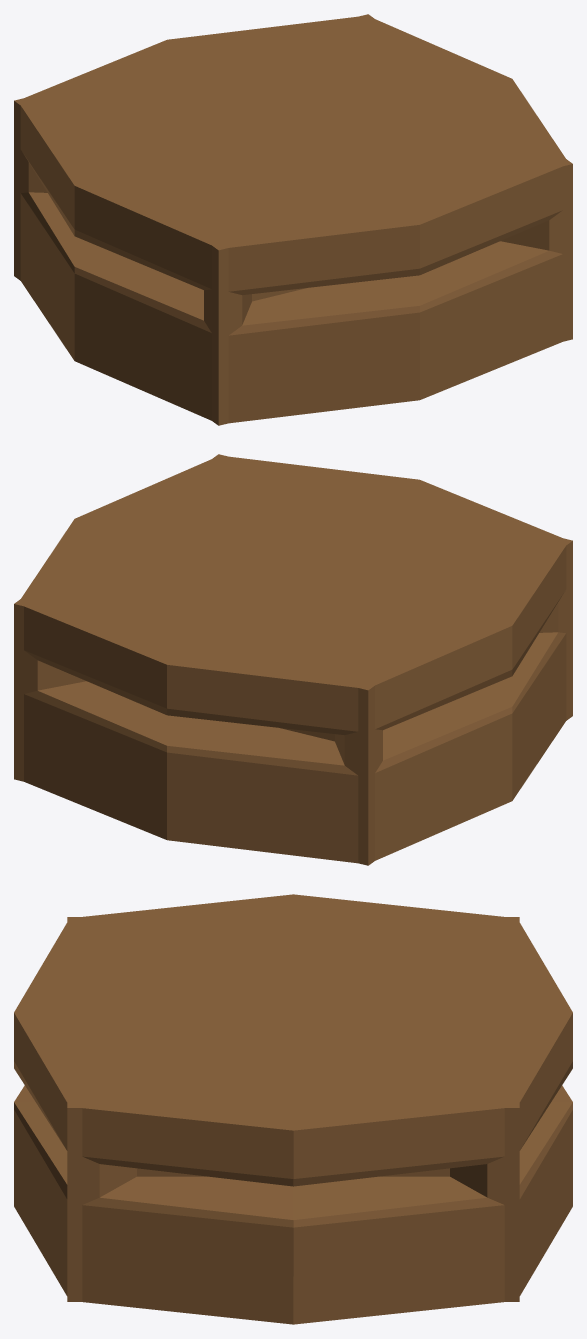
Rendered from Tower_Base.fbx.
3 renders of one model, top to bottom at view 1: azimuth 30°, elevation 25°; view 2: azimuth 150°, elevation 25°; view 3: azimuth 270°, elevation 25°, orthographic. The views are drawn at different scales.
Visible parts, largest first — view 1: Base; view 2: Base; view 3: Base.
Boxes of the visible parts, left/top/right/bottom form: Base: left=14, top=14, right=572, bottom=425; Base: left=14, top=454, right=572, bottom=865; Base: left=14, top=894, right=572, bottom=1324.
Size of the model in its own units: 2471 by 946 by 2471.
